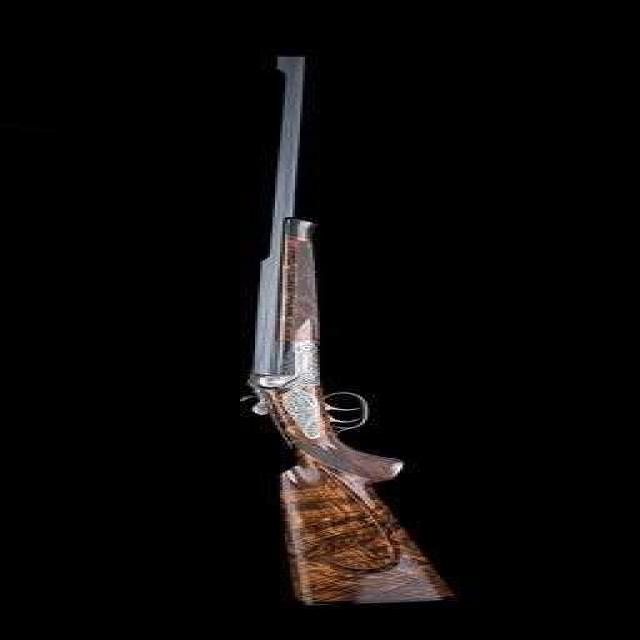heavyweapon: (154, 39, 499, 616)
